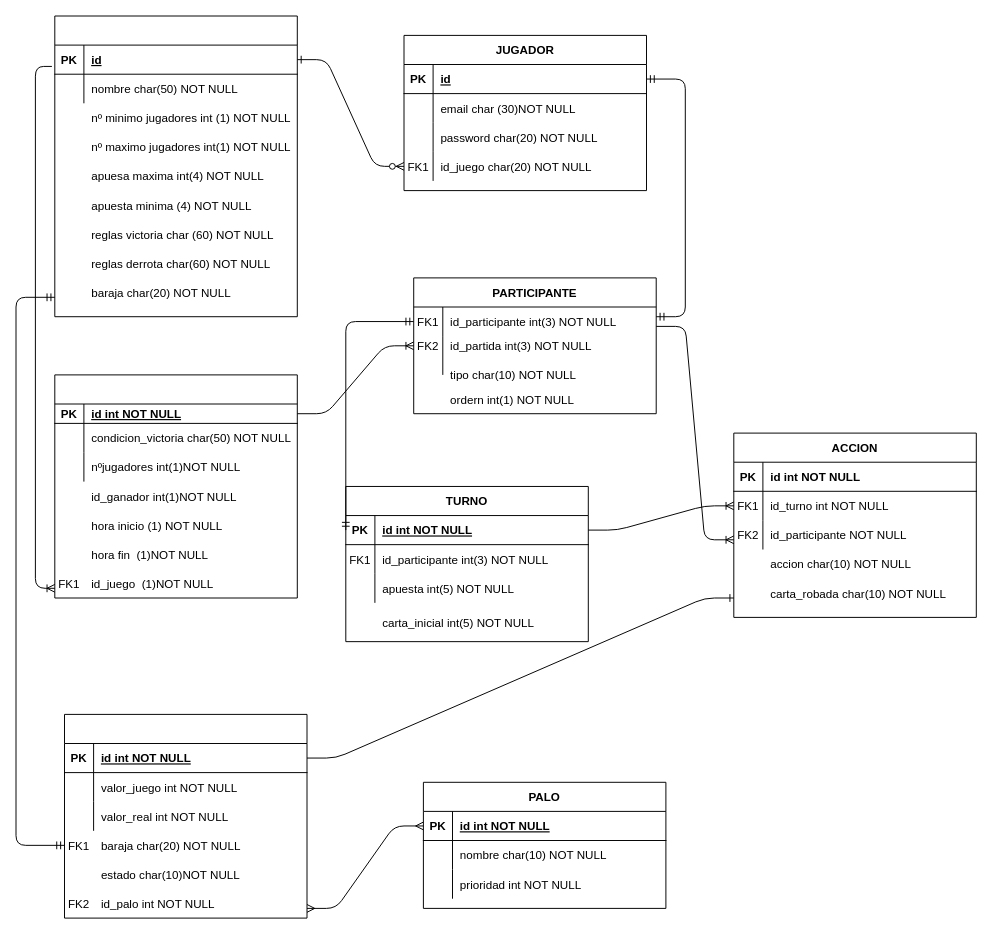
Image size: 992x934. Some labels were removed from this diagram. Here are the shapes that lost their labels. From the top down, the box of each, then its label:
(54, 15, 297, 317): JUEGO
(54, 374, 297, 598): PARTIDA
(64, 713, 307, 918): CARTA
